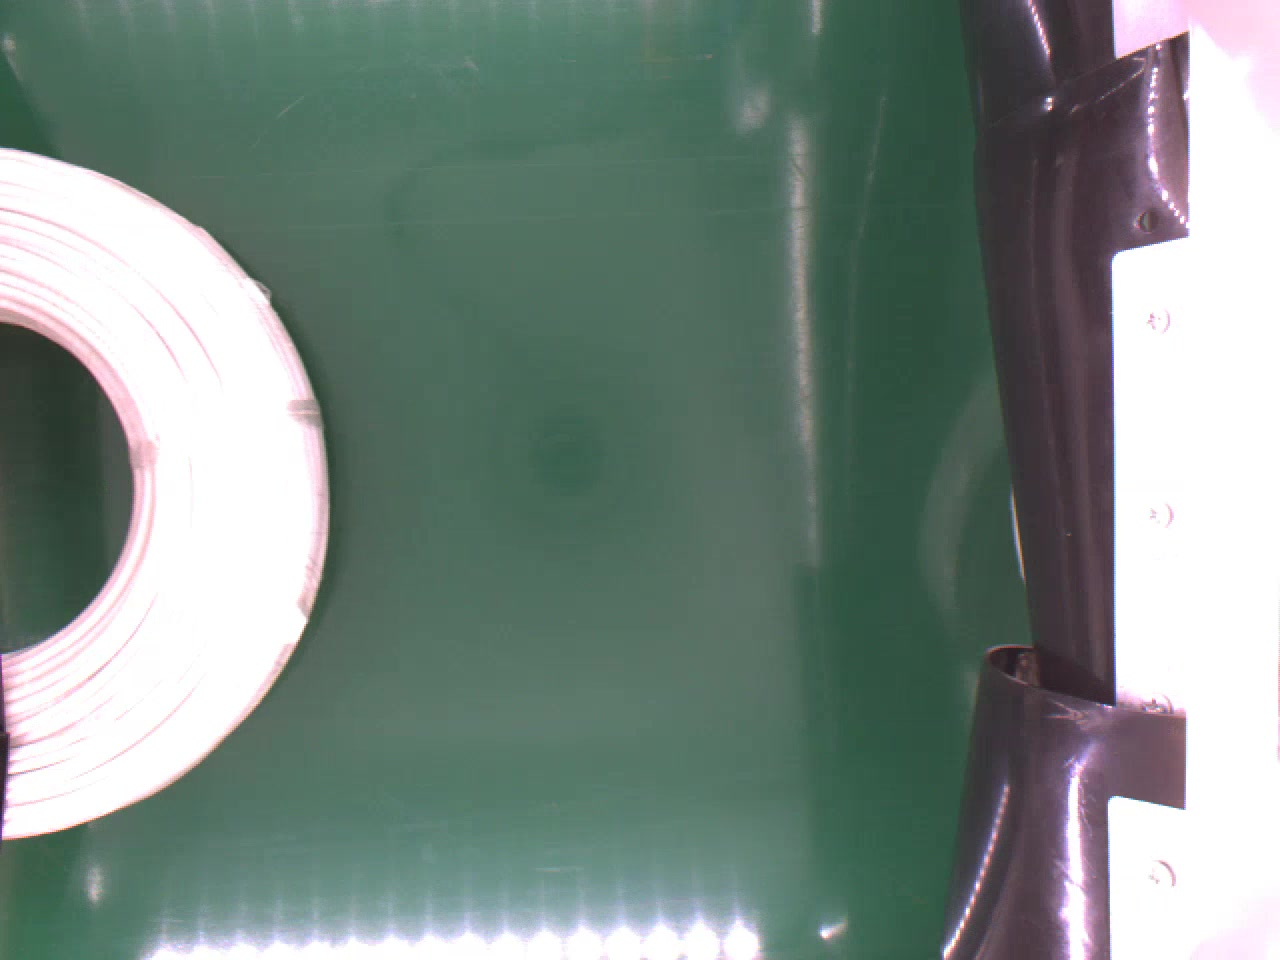white: (0, 146, 335, 842)
